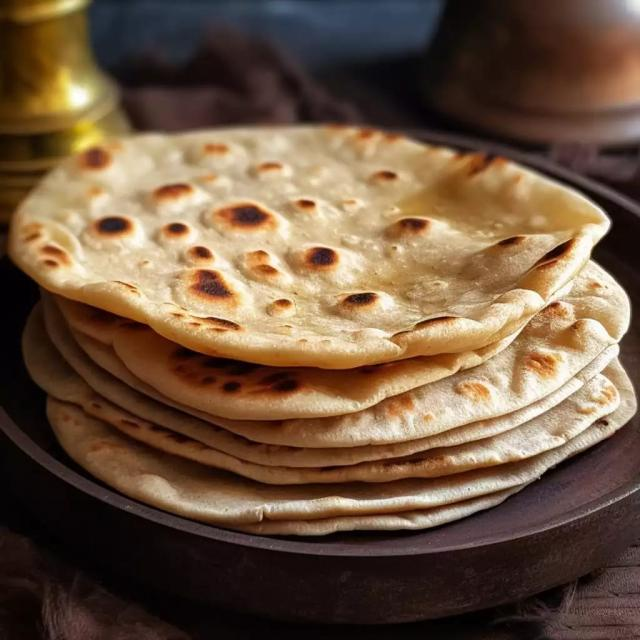dosa: (9, 110, 634, 370)
